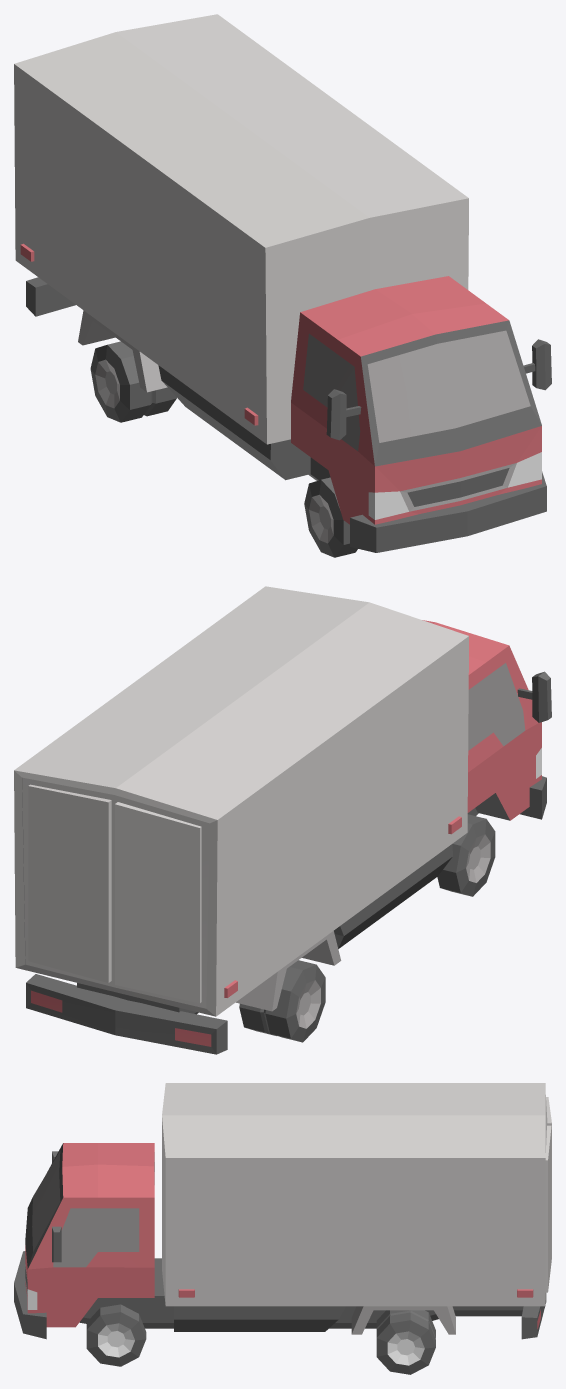
The model's file is truck.glb.
3 renders of one model, top to bottom at view 1: azimuth 30°, elevation 25°; view 2: azimuth 150°, elevation 25°; view 3: azimuth 270°, elevation 25°, orthographic. The views are drawn at different scales.
Parts seen in each view (by area): view 1: truck_base, windows, truck_wheel_BR, truck_wheel_FR, headlight_R, headlight_L; view 2: truck_base, truck_door_R, truck_door_L, truck_wheel_BR, windows, truck_wheel_FR; view 3: truck_base, windows, truck_wheel_BL, truck_wheel_FL, truck_door_L.
Boxes of the visible parts, <box> form: truck_base: <box>14,14,551,552</box>; windows: <box>303,330,530,450</box>; truck_wheel_BR: <box>90,341,176,422</box>; truck_wheel_FR: <box>304,477,357,557</box>; headlight_R: <box>368,491,408,519</box>; headlight_L: <box>508,452,541,487</box>; truck_base: <box>14,586,551,1054</box>; truck_door_R: <box>114,795,209,1008</box>; truck_door_L: <box>22,777,114,986</box>; truck_wheel_BR: <box>239,960,325,1042</box>; windows: <box>468,663,525,750</box>; truck_wheel_FR: <box>437,814,495,896</box>; truck_base: <box>14,1083,547,1339</box>; windows: <box>32,1151,139,1267</box>; truck_wheel_BL: <box>376,1310,435,1374</box>; truck_wheel_FL: <box>86,1304,146,1366</box>; truck_door_L: <box>545,1125,551,1292</box>.
Size of the model in its own units: 2.26 by 2.89 by 6.3.
